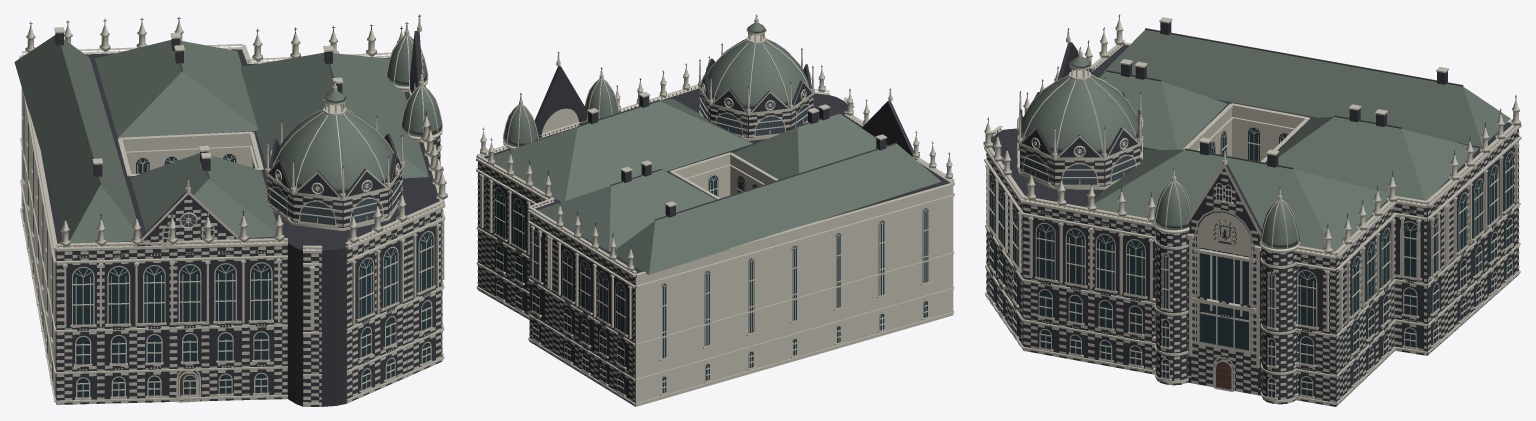
The model's file is palacio-de-la-cultura-medellin-near.glb.
3 renders of one model, left to right at view 1: azimuth 30°, elevation 25°; view 2: azimuth 150°, elevation 25°; view 3: azimuth 270°, elevation 25°, orthographic. The views are drawn at different scales.
Visible parts, largest first — view 1: palacio-de-la-cultura-medellin-0-cream, palacio-de-la-cultura-medellin-0-roof, palacio-de-la-cultura-medellin-0-stone, palacio-de-la-cultura-medellin-0-glass, palacio-de-la-cultura-medellin-0-lamp, palacio-de-la-cultura-medellin-0-glow, palacio-de-la-cultura-medellin-0-iron; view 2: palacio-de-la-cultura-medellin-0-cream, palacio-de-la-cultura-medellin-0-roof, palacio-de-la-cultura-medellin-0-stone, palacio-de-la-cultura-medellin-0-glass, palacio-de-la-cultura-medellin-0-lamp, palacio-de-la-cultura-medellin-0-glow, palacio-de-la-cultura-medellin-0-iron; view 3: palacio-de-la-cultura-medellin-0-cream, palacio-de-la-cultura-medellin-0-roof, palacio-de-la-cultura-medellin-0-stone, palacio-de-la-cultura-medellin-0-glass, palacio-de-la-cultura-medellin-0-lamp, palacio-de-la-cultura-medellin-0-glow, palacio-de-la-cultura-medellin-0-iron.
Boxes of the visible parts, left/top/right/bottom form: palacio-de-la-cultura-medellin-0-cream: left=19, top=16, right=447, bottom=406; palacio-de-la-cultura-medellin-0-roof: left=14, top=35, right=441, bottom=243; palacio-de-la-cultura-medellin-0-stone: left=42, top=31, right=442, bottom=406; palacio-de-la-cultura-medellin-0-glass: left=23, top=96, right=432, bottom=397; palacio-de-la-cultura-medellin-0-lamp: left=273, top=110, right=396, bottom=195; palacio-de-la-cultura-medellin-0-glow: left=181, top=166, right=401, bottom=226; palacio-de-la-cultura-medellin-0-iron: left=29, top=14, right=443, bottom=400; palacio-de-la-cultura-medellin-0-cream: left=476, top=16, right=954, bottom=406; palacio-de-la-cultura-medellin-0-roof: left=486, top=23, right=941, bottom=274; palacio-de-la-cultura-medellin-0-stone: left=478, top=58, right=950, bottom=406; palacio-de-la-cultura-medellin-0-glass: left=495, top=175, right=928, bottom=394; palacio-de-la-cultura-medellin-0-lamp: left=704, top=39, right=808, bottom=111; palacio-de-la-cultura-medellin-0-glow: left=700, top=86, right=809, bottom=135; palacio-de-la-cultura-medellin-0-iron: left=482, top=14, right=949, bottom=248; palacio-de-la-cultura-medellin-0-cream: left=983, top=17, right=1521, bottom=406; palacio-de-la-cultura-medellin-0-roof: left=1069, top=29, right=1510, bottom=251; palacio-de-la-cultura-medellin-0-stone: left=986, top=21, right=1518, bottom=406; palacio-de-la-cultura-medellin-0-glass: left=989, top=127, right=1512, bottom=397; palacio-de-la-cultura-medellin-0-lamp: left=1022, top=75, right=1137, bottom=157; palacio-de-la-cultura-medellin-0-glow: left=1024, top=122, right=1141, bottom=184; palacio-de-la-cultura-medellin-0-iron: left=987, top=14, right=1516, bottom=388.
Bounding box in the file's own units: 68.8 × 40 × 72.82.
